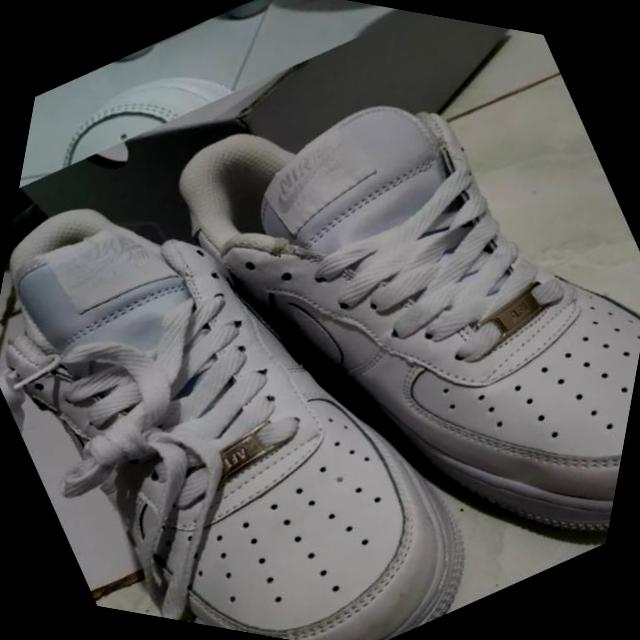nike_fake_airforce: (84, 0, 640, 640), (0, 69, 566, 640)
